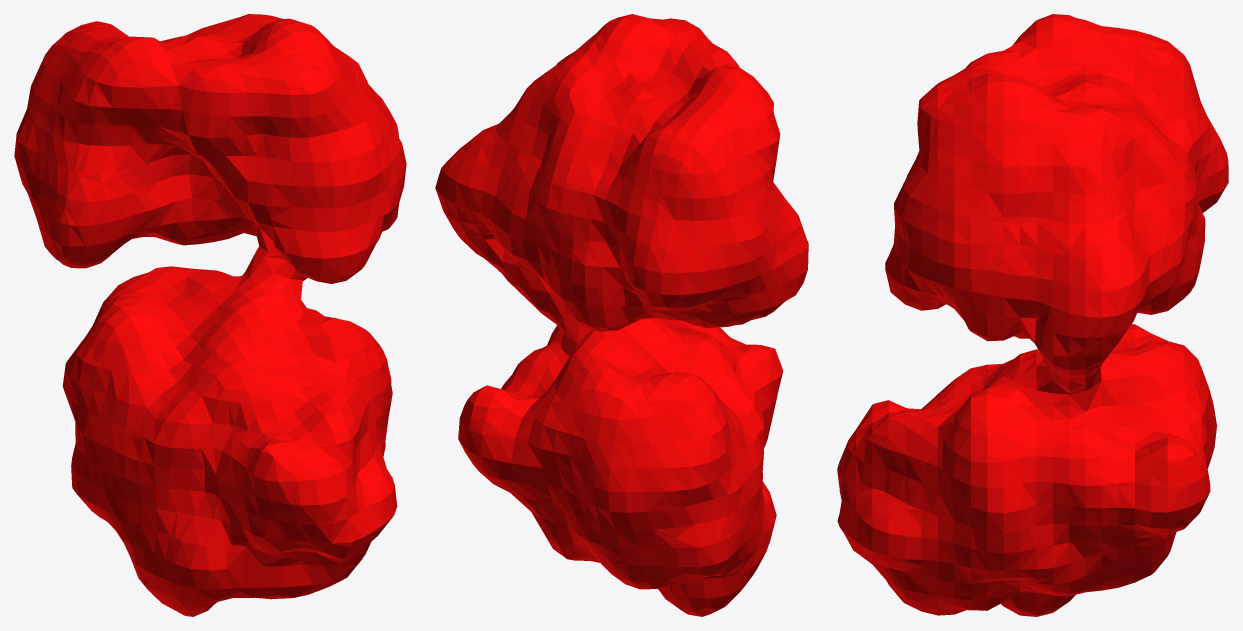
The model's file is mglA_coarse.dae.
The picture shows the model from 3 angles, left to right: view 1: azimuth 30°, elevation 25°; view 2: azimuth 150°, elevation 25°; view 3: azimuth 270°, elevation 25°; orthographic projection. The views are drawn at different scales.
Parts seen in each view (by area): view 1: mglA; view 2: mglA; view 3: mglA.
Part boxes in pixels (x1,y1,x2,y2): mglA: (14,14,406,616); mglA: (435,14,808,616); mglA: (837,14,1228,616).
Size of the model in its own units: 60.66 by 94.15 by 57.64.
